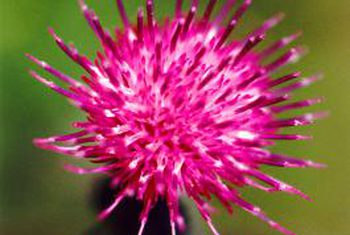thistle: (27, 1, 323, 235)
